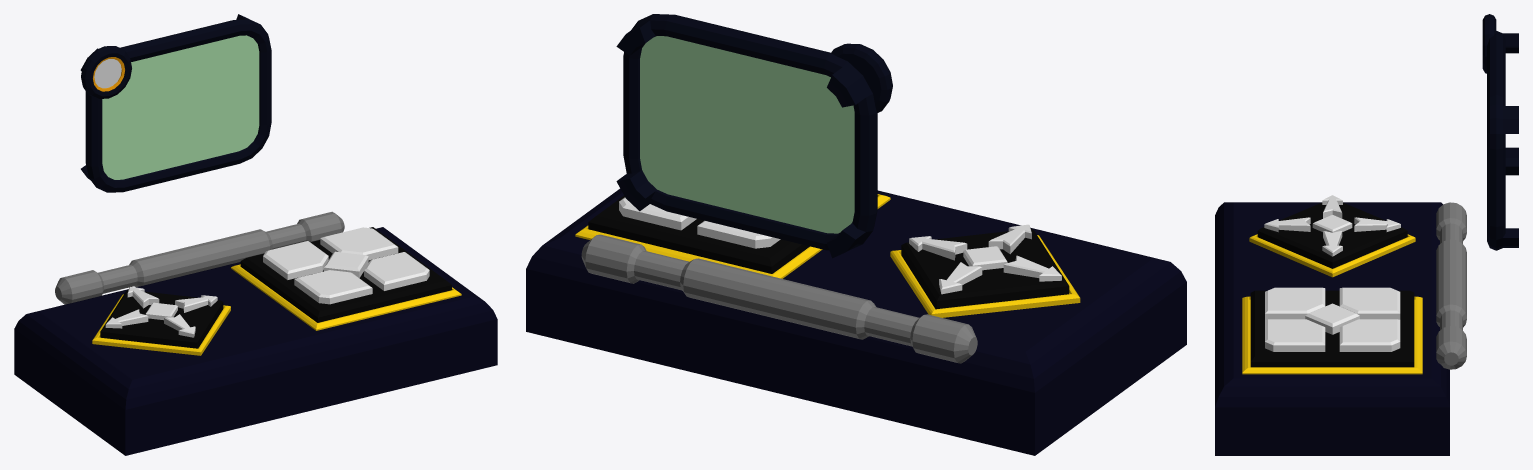
Rendered from KeyPad.fbx.
3 renders of one model, left to right at view 1: azimuth 30°, elevation 25°; view 2: azimuth 150°, elevation 25°; view 3: azimuth 270°, elevation 25°, orthographic. The views are drawn at different scales.
Visible parts, largest first — view 1: PanelBody, ScreenGlass, ScreenBorder, Hinge, EmoteKeyPad, DPadBase, Lamp, EmoteBottomLeft, EmoteBottomRight, EmoteTopLeft, EmoteTopRight; view 2: PanelBody, ScreenGlass, ScreenBorder, Hinge, DPadBase, EmoteKeyPad, Lamp, EmoteTopLeft, EmoteTopRight, ArrowLeft, ArrowRight, ArrowUp (+1 smaller); view 3: PanelBody, EmoteKeyPad, ScreenBorder, Hinge, DPadBase, EmoteTopRight, EmoteBottomRight, EmoteTopLeft, EmoteBottomLeft, ArrowUp, ArrowDown, Lamp (+2 smaller).
Boxes of the visible parts, <box> form: PanelBody: <box>14,227,497,455</box>; ScreenGlass: <box>102,35,259,179</box>; ScreenBorder: <box>80,14,271,192</box>; Hinge: <box>55,211,344,304</box>; EmoteKeyPad: <box>240,227,451,322</box>; DPadBase: <box>100,289,223,348</box>; Lamp: <box>81,46,131,98</box>; EmoteBottomLeft: <box>294,270,372,304</box>; EmoteBottomRight: <box>364,252,429,290</box>; EmoteTopLeft: <box>263,241,328,279</box>; EmoteTopRight: <box>320,227,398,260</box>; PanelBody: <box>526,188,1186,455</box>; ScreenGlass: <box>640,36,854,233</box>; ScreenBorder: <box>616,14,877,258</box>; Hinge: <box>581,234,977,363</box>; DPadBase: <box>901,228,1069,309</box>; EmoteKeyPad: <box>588,196,809,273</box>; Lamp: <box>831,43,892,112</box>; EmoteTopLeft: <box>697,220,780,248</box>; EmoteTopRight: <box>619,197,696,230</box>; ArrowLeft: <box>1003,255,1061,281</box>; ArrowRight: <box>909,236,967,260</box>; ArrowUp: <box>939,262,982,294</box>; PanelBody: <box>1215,202,1449,455</box>; EmoteKeyPad: <box>1250,290,1414,367</box>; ScreenBorder: <box>1487,31,1518,250</box>; Hinge: <box>1436,202,1466,369</box>; DPadBase: <box>1257,202,1407,268</box>; EmoteTopRight: <box>1339,319,1400,351</box>; EmoteBottomRight: <box>1265,319,1325,351</box>; EmoteTopLeft: <box>1339,287,1400,319</box>; EmoteBottomLeft: <box>1265,287,1325,319</box>; ArrowUp: <box>1354,217,1400,231</box>; ArrowDown: <box>1264,217,1310,232</box>; Lamp: <box>1482,14,1496,73</box>.
Bounding box in the file's own units: 638 × 471 × 427.
